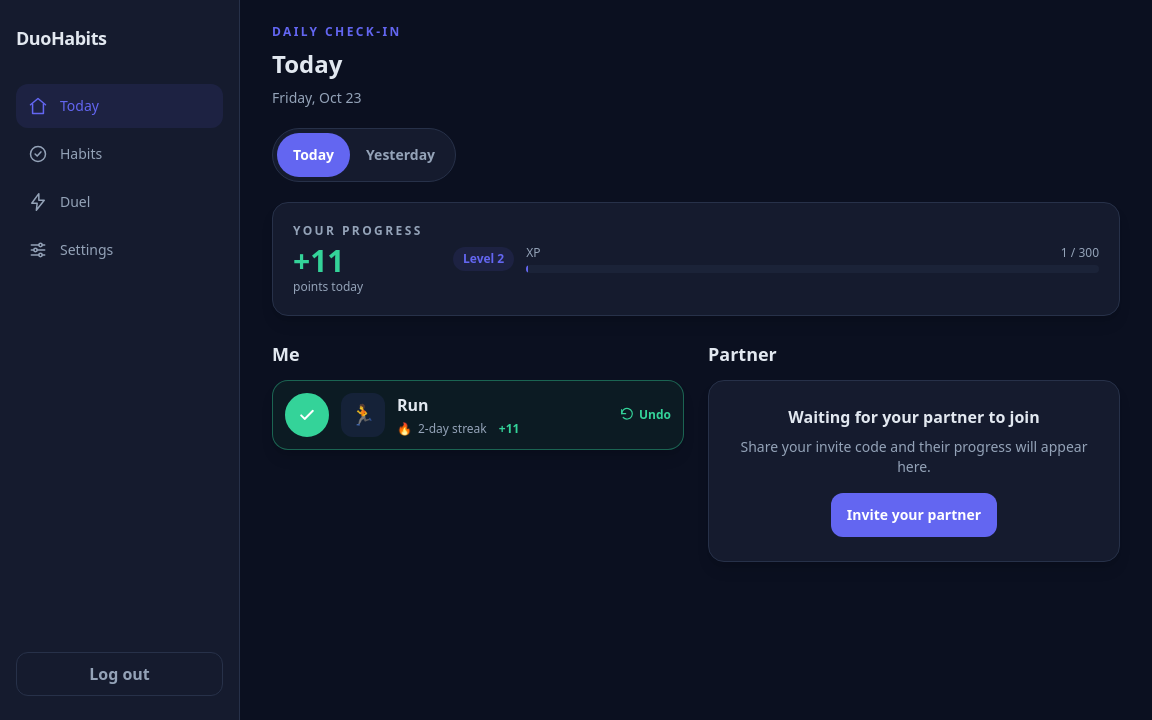
Test: TodayPage › optimistically undoes a check-in and settles with the server response
Expected: the text "Run" is shown, 397,394 -> 429,416
Expected: the text "Level 2" is shown, 453,247 -> 514,271
Click the button with aria-label "Undo Run for today": click(307, 415) 272,380 -> 684,450
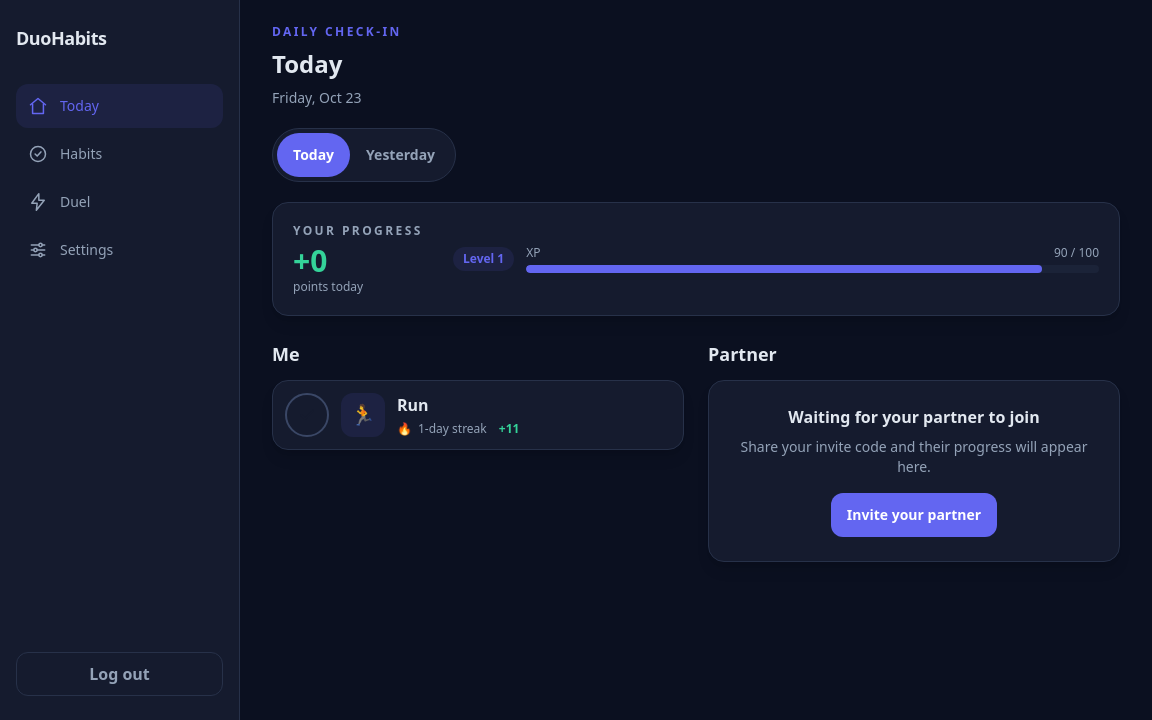
Now the button with aria-label "Mark Run done for today" is shown, box 272,380 -> 684,450
Now the text "Level 2" is gone
Now the text "Level 1" is shown, box 453,247 -> 514,271
